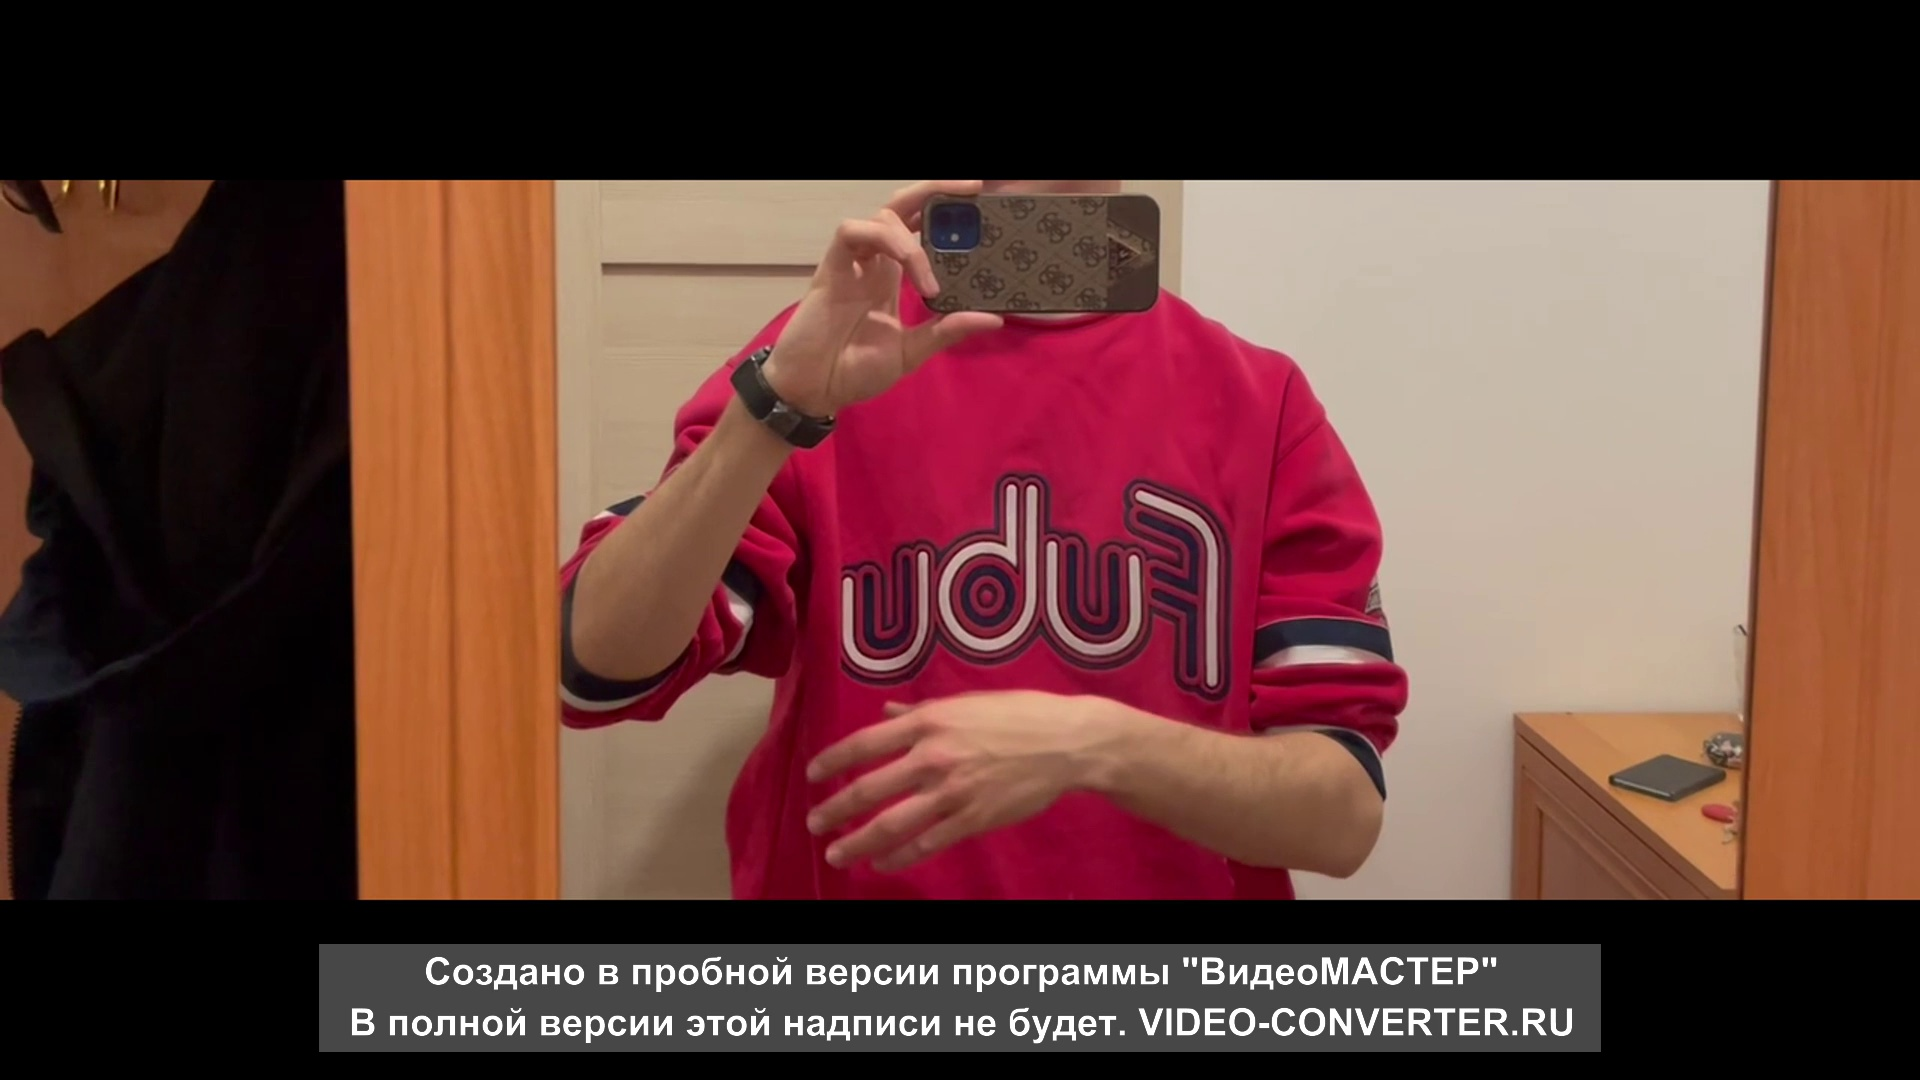Кисть: (807, 692, 1089, 873)
